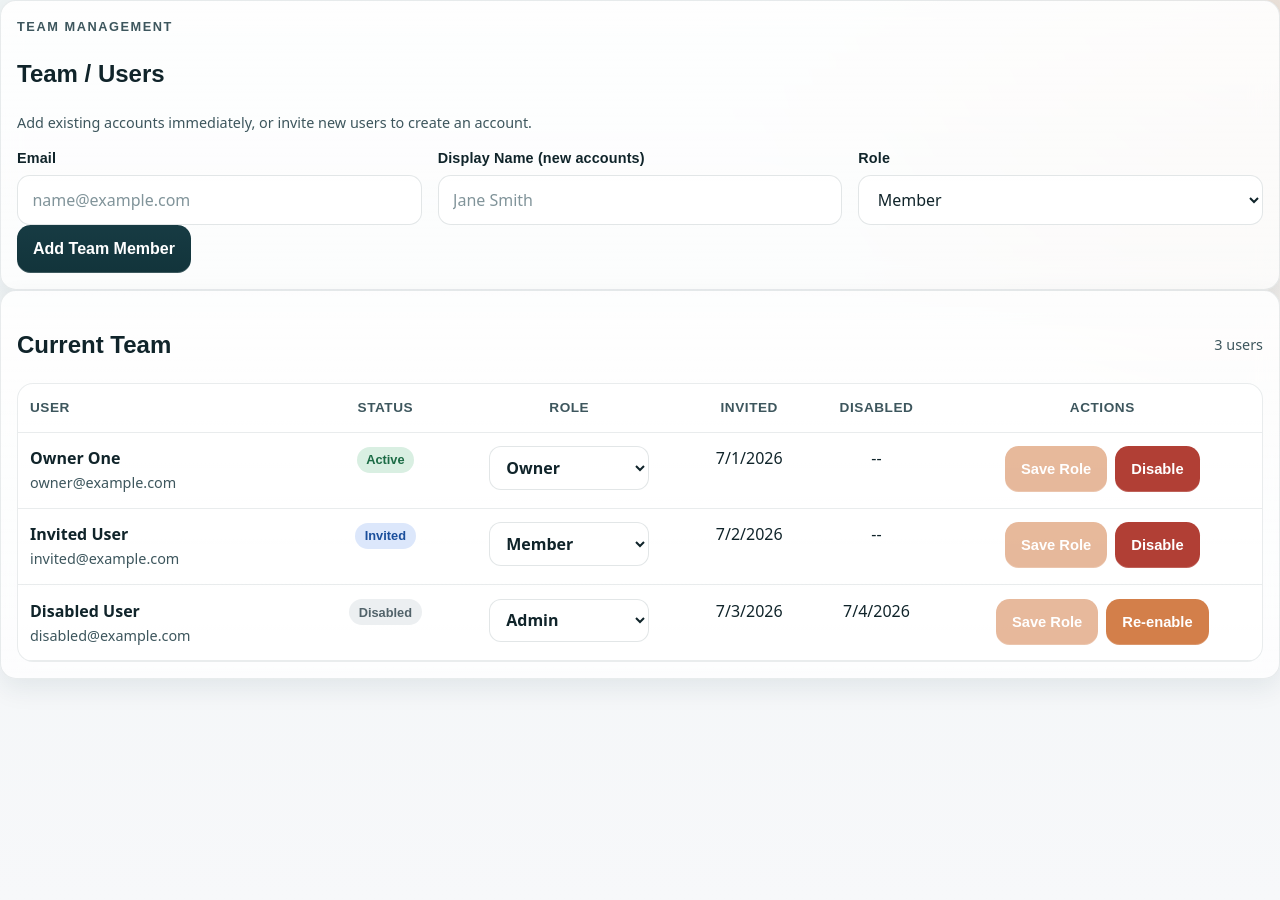
Scenario: TeamUsersPage › renders invite failures without leaving an unhandled event promise
The image size is (1280, 900).
Expected: the text "Owner One" is shown, [30,447,120,469]
Step 1. Type "new.user@example.com" into the field labelled "Email" → coordinates (219, 200), box [17,175,422,225]
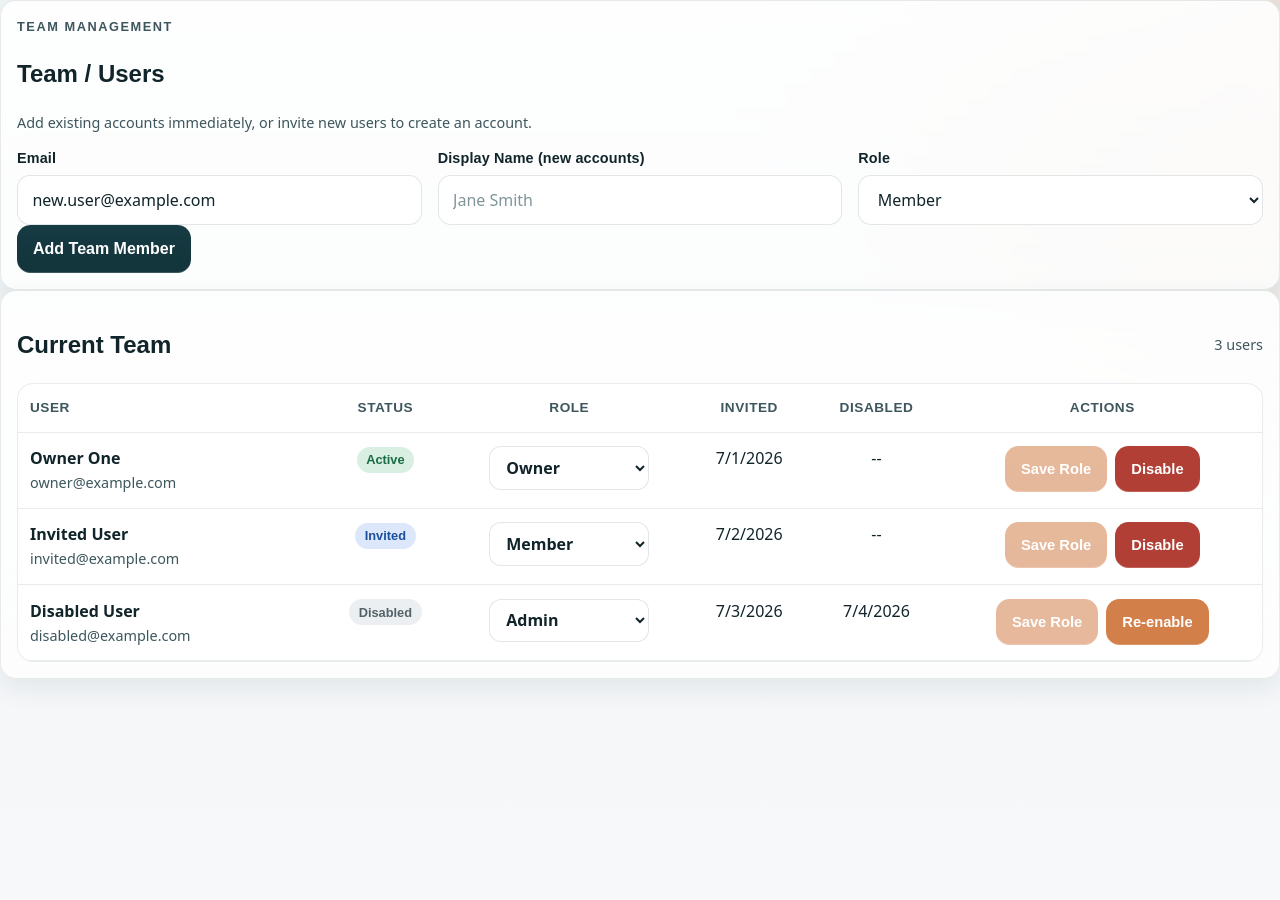
Step 2. Click the button "Add Team Member" → coordinates (104, 249), box [17,225,191,273]
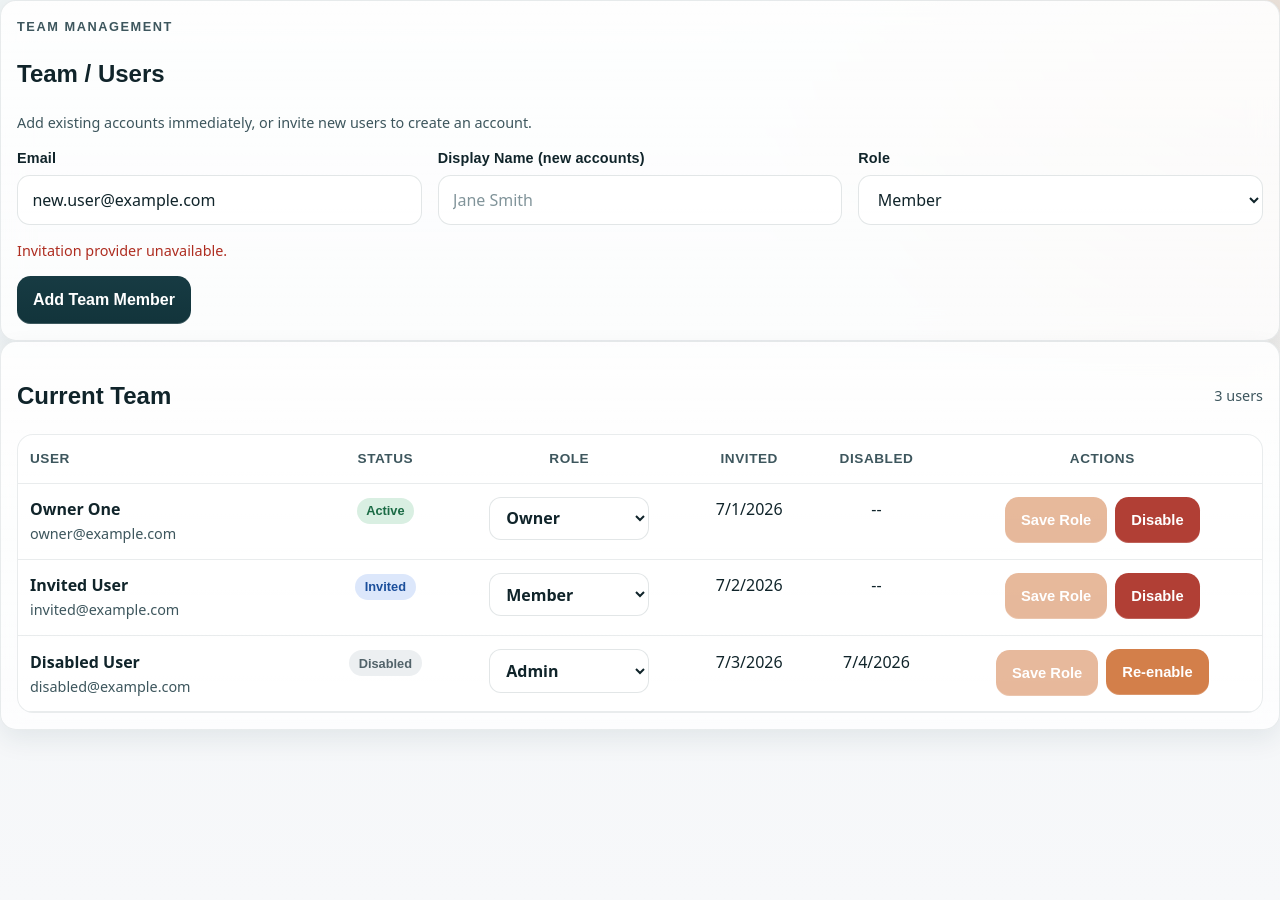
Expected: the text "Invitation provider unavailable." is shown, [17,241,227,260]
